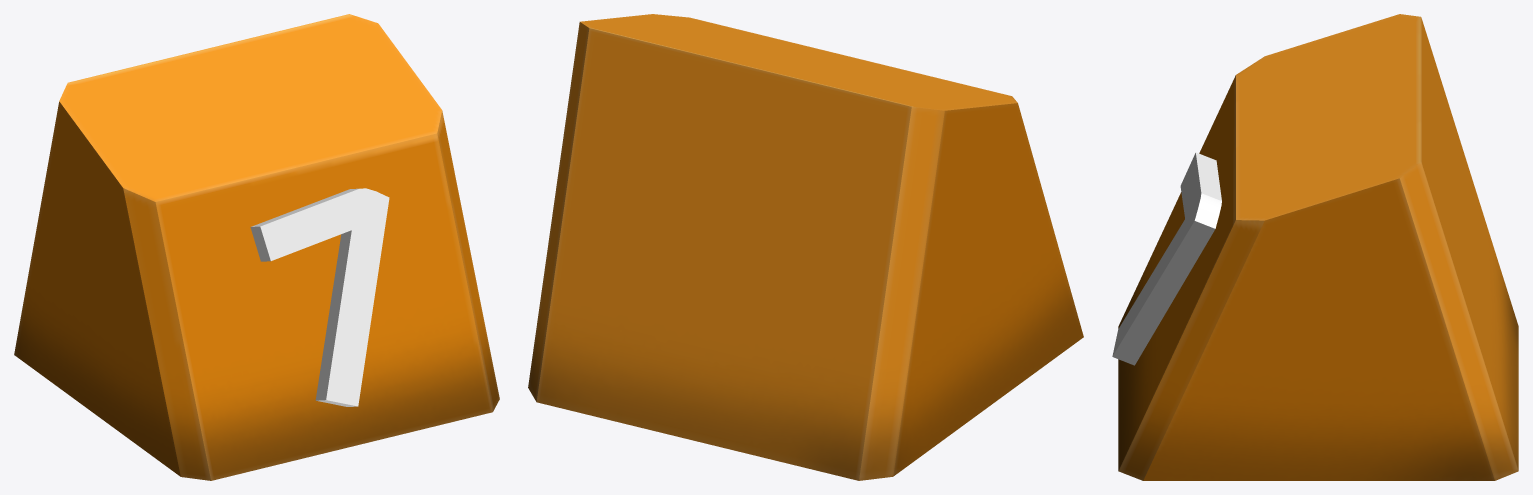
File: hole7Mesh.FBX
3 renders of one model, left to right at view 1: azimuth 30°, elevation 25°; view 2: azimuth 150°, elevation 25°; view 3: azimuth 270°, elevation 25°, orthographic. The views are drawn at different scales.
Visible parts, largest first — view 1: holeNumber7; view 2: holeNumber7; view 3: holeNumber7.
Part boxes in pixels (box(x1,y1,x2,y2)): holeNumber7: box(14, 14, 499, 480); holeNumber7: box(528, 14, 1083, 480); holeNumber7: box(1112, 14, 1518, 480).
Size of the model in its own units: 2026 by 1779 by 2117.
